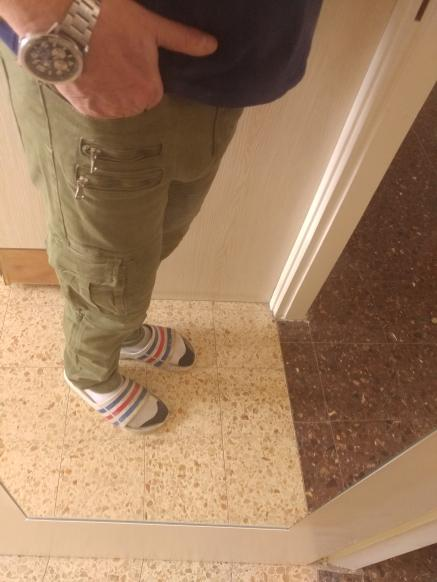jeans: (7, 57, 244, 375)
